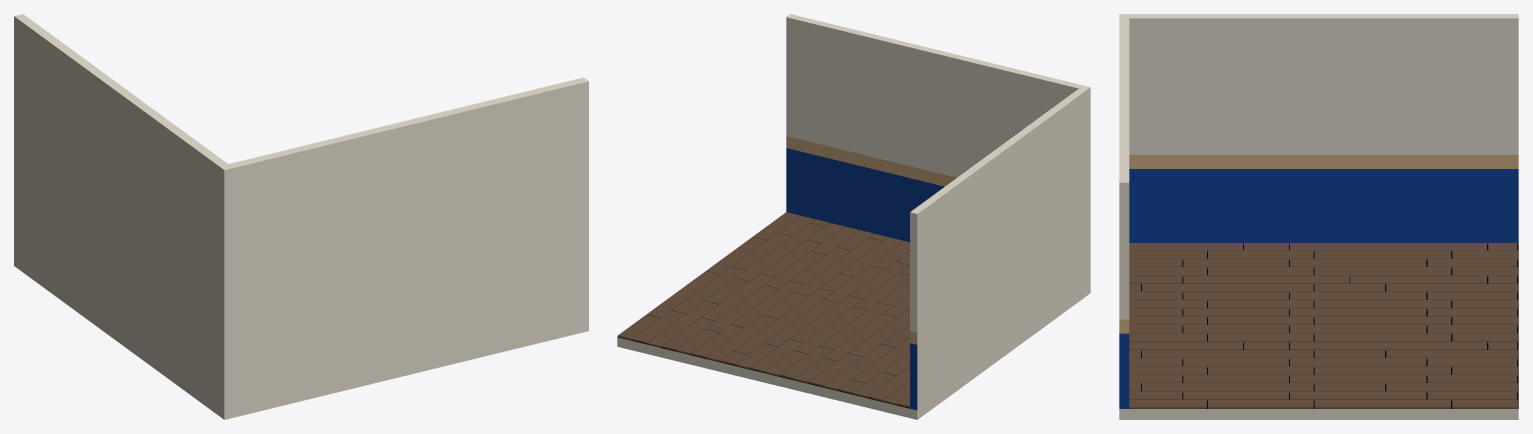
Rendered from room.gltf.
3 views of the same model, side by side, from view 1: azimuth 30°, elevation 25°; view 2: azimuth 150°, elevation 25°; view 3: azimuth 270°, elevation 25° (orthographic). The views are drawn at different scales.
Parts seen in each view (by area): view 1: room; view 2: room, Cube.053, Cube.049, Cube.046, Cube.047; view 3: room, Cube.049, Cube.053, Cube.046, Cube.047.
Part boxes in pixels (bbox=[...]): room: bbox=[14, 14, 588, 419]; room: bbox=[617, 14, 1090, 419]; Cube.053: bbox=[632, 216, 909, 401]; Cube.049: bbox=[617, 212, 909, 404]; Cube.046: bbox=[647, 219, 909, 390]; Cube.047: bbox=[721, 237, 909, 407]; room: bbox=[1119, 14, 1518, 419]; Cube.049: bbox=[1129, 250, 1517, 408]; Cube.053: bbox=[1129, 258, 1516, 400]; Cube.046: bbox=[1129, 283, 1517, 392]; Cube.047: bbox=[1129, 243, 1516, 350].
Size of the model in its own units: 8 by 5.24 by 8.
